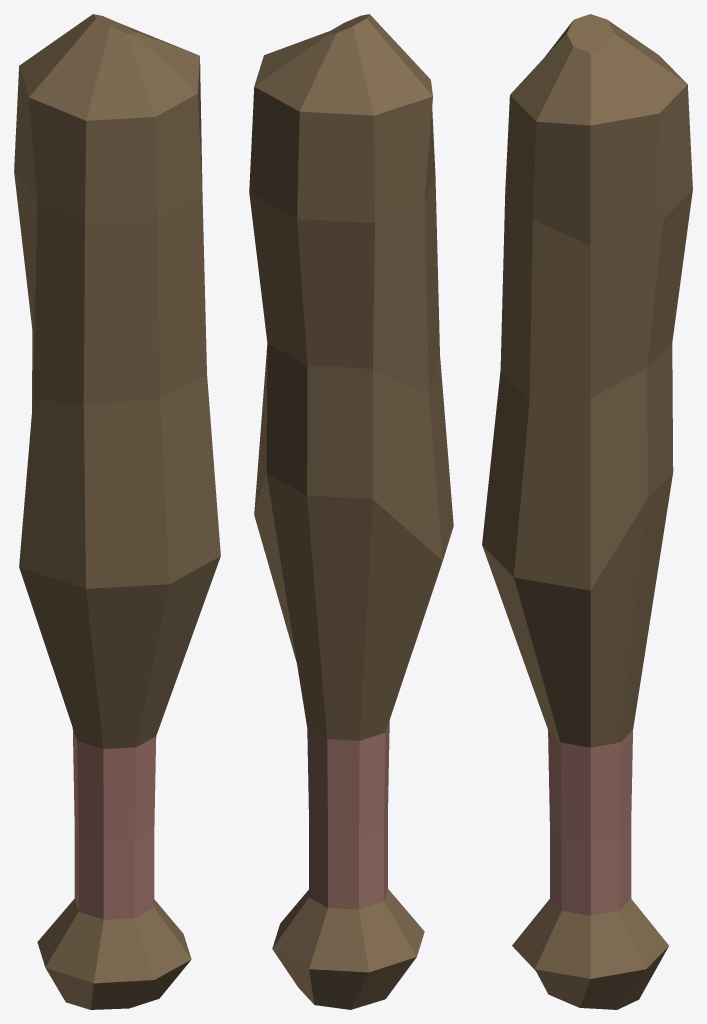
Rendered from Club.fbx.
3 views of the same model, side by side, from view 1: azimuth 30°, elevation 25°; view 2: azimuth 150°, elevation 25°; view 3: azimuth 270°, elevation 25° (orthographic).
Parts seen in each view (by area): view 1: Club; view 2: Club; view 3: Club.
Part boxes in pixels (<box>): Club: <box>14,14,220,1009</box>; Club: <box>249,14,453,1009</box>; Club: <box>482,14,692,1009</box>.
Size of the model in its own units: 275 by 1359 by 267.
